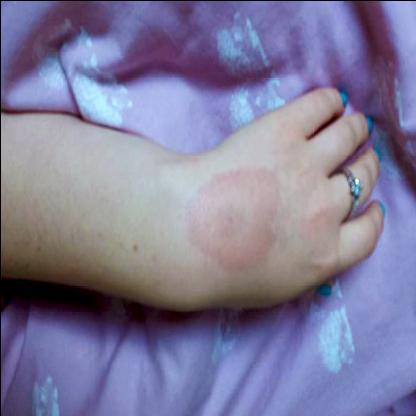Tick: (181, 164, 281, 280)
